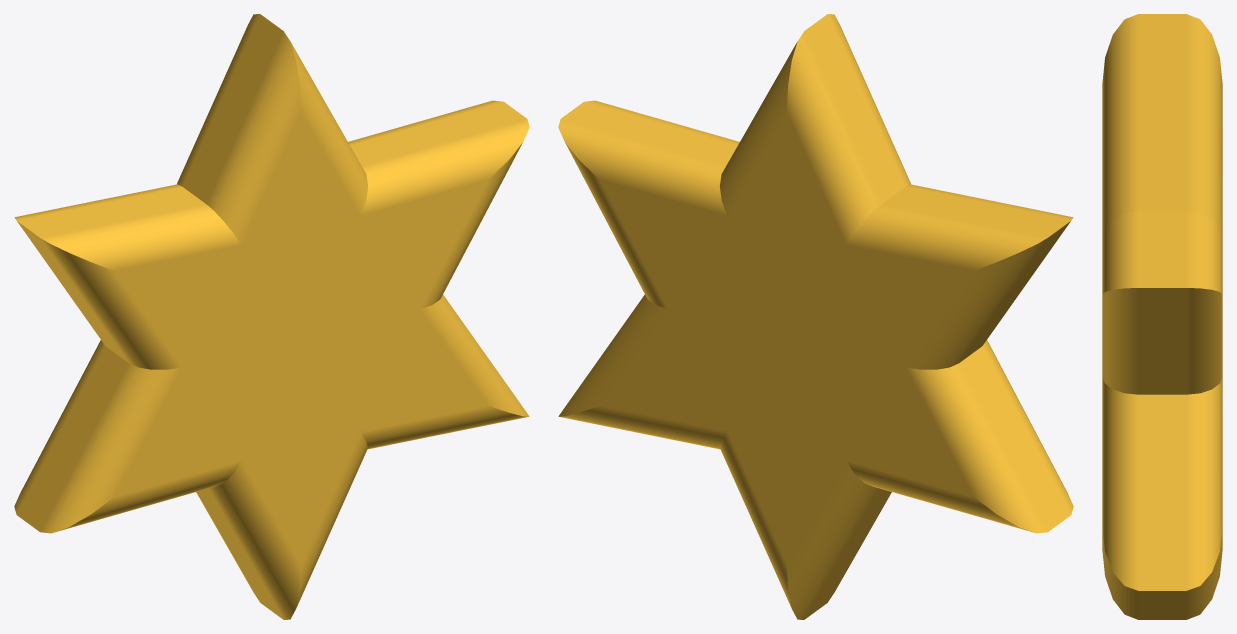
Rendered from gold-star6.glb.
3 views of the same model, side by side, from view 1: azimuth 30°, elevation 25°; view 2: azimuth 150°, elevation 25°; view 3: azimuth 270°, elevation 25° (orthographic). The views are drawn at different scales.
Parts seen in each view (by area): view 1: star; view 2: star; view 3: star.
Part boxes in pixels (x1,y1,x2,y2): star: (14,14,529,619); star: (558,14,1073,619); star: (1102,14,1222,619).
Size of the model in its own units: 0.866 by 1 by 0.18.
